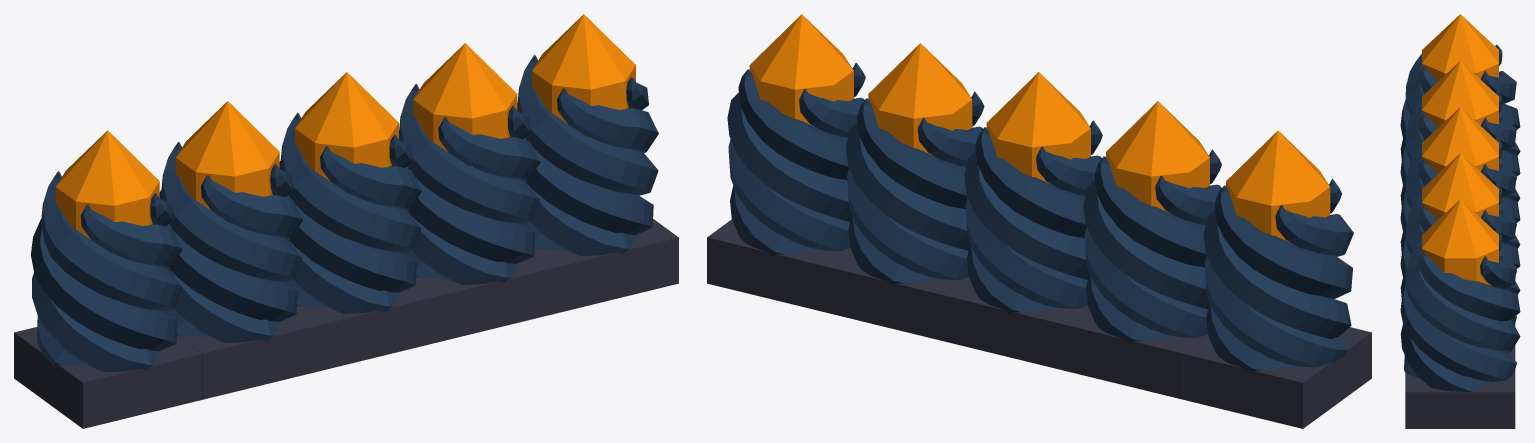
File: 3D_Muro.fbx
The picture shows the model from 3 angles, left to right: view 1: azimuth 30°, elevation 25°; view 2: azimuth 150°, elevation 25°; view 3: azimuth 270°, elevation 25°; orthographic projection. The views are drawn at different scales.
Parts seen in each view (by area): view 1: Radici 4, Plane.002, Gemma 5; view 2: Radici 4, Plane.002, Gemma 5; view 3: Radici 4, Gemma 5, Plane.002.
Part boxes in pixels (bbox=[...]): Radici 4: bbox=[31, 55, 658, 372]; Plane.002: bbox=[14, 219, 678, 428]; Gemma 5: bbox=[55, 14, 635, 254]; Radici 4: bbox=[727, 62, 1353, 372]; Plane.002: bbox=[707, 219, 1371, 428]; Gemma 5: bbox=[749, 14, 1330, 242]; Radici 4: bbox=[1400, 44, 1520, 391]; Gemma 5: bbox=[1422, 14, 1498, 285]; Plane.002: bbox=[1405, 323, 1515, 428].
Size of the model in its own units: 513 by 210 by 110.
